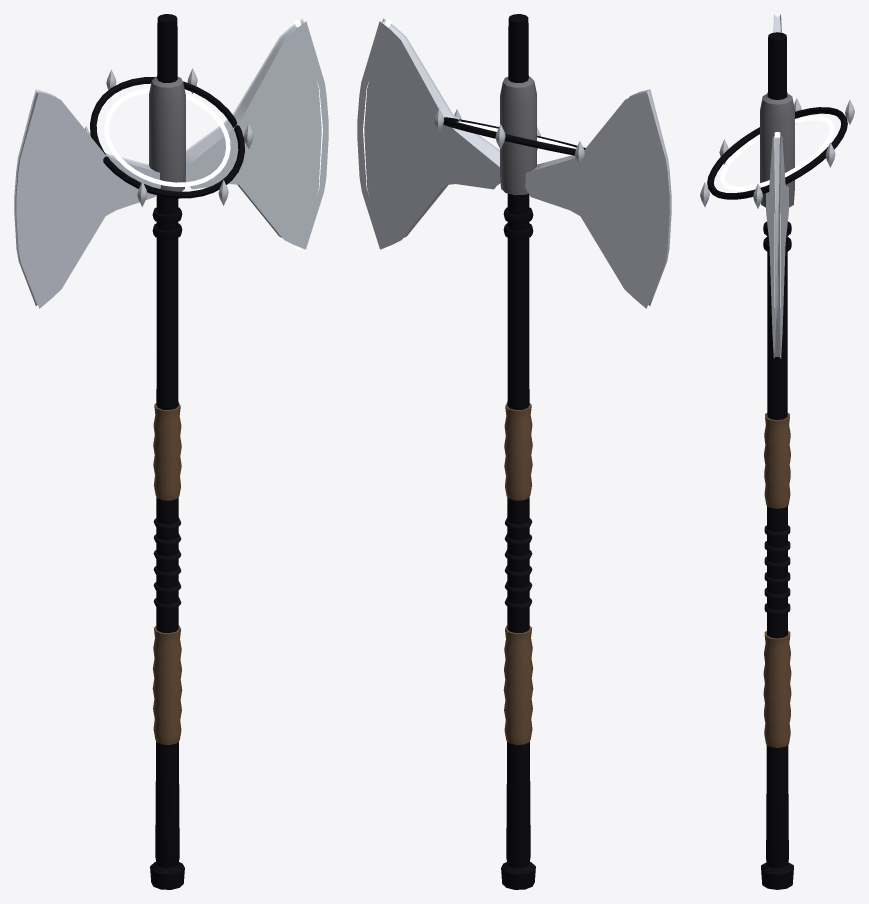
File: esc_w_knight_greataxe_7.glb
3 renders of one model, left to right at view 1: azimuth 30°, elevation 25°; view 2: azimuth 150°, elevation 25°; view 3: azimuth 270°, elevation 25°, orthographic. The views are drawn at different scales.
Parts seen in each view (by area): view 1: esc_w_knight_greataxe_7; view 2: esc_w_knight_greataxe_7; view 3: esc_w_knight_greataxe_7.
Boxes of the visible parts, box(x1,y1,x2,y2) form: esc_w_knight_greataxe_7: box(14, 14, 328, 889); esc_w_knight_greataxe_7: box(357, 14, 671, 889); esc_w_knight_greataxe_7: box(700, 14, 854, 889).
Size of the model in its own units: 0.6163 by 1.64 by 0.2702.
